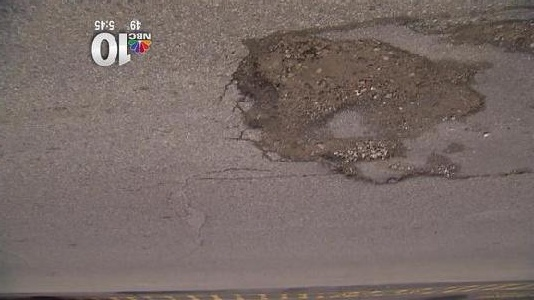pothole: (233, 33, 492, 184)
